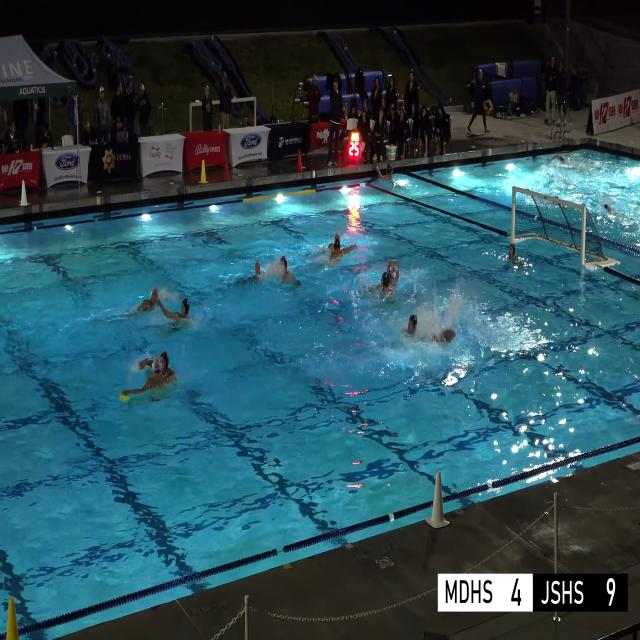ball: (120, 392, 129, 401), (390, 144, 394, 147)
